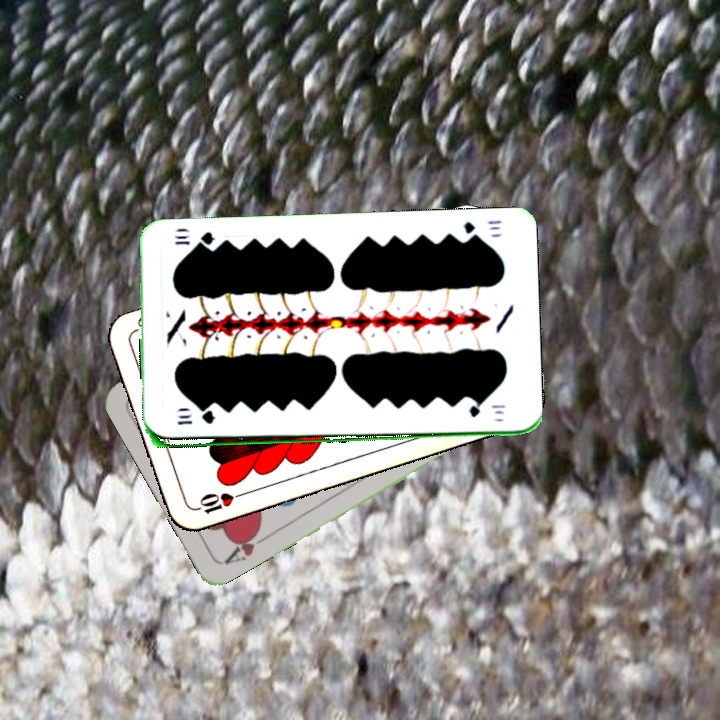G10: (460, 216, 505, 243), (173, 410, 217, 427)
H10: (189, 488, 247, 516)
HA: (220, 524, 274, 567)
